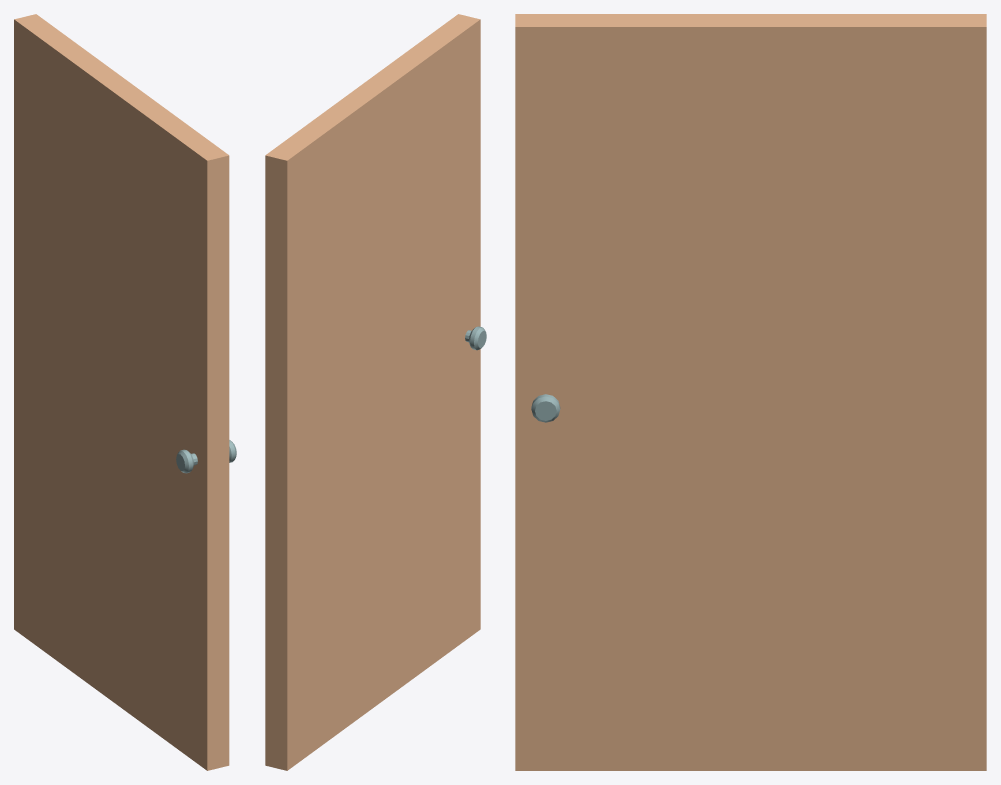
Rendered from Door.FBX.
The picture shows the model from 3 angles, left to right: view 1: azimuth 30°, elevation 25°; view 2: azimuth 150°, elevation 25°; view 3: azimuth 270°, elevation 25°; orthographic projection. The views are drawn at different scales.
Parts seen in each view (by area): view 1: Door; view 2: Door; view 3: Door.
Boxes of the visible parts, left/top/right/bottom form: Door: left=14, top=14, right=236, bottom=770; Door: left=265, top=14, right=486, bottom=770; Door: left=515, top=14, right=986, bottom=770.
Bounding box in the file's own units: 9.2 × 104 × 59.51.
